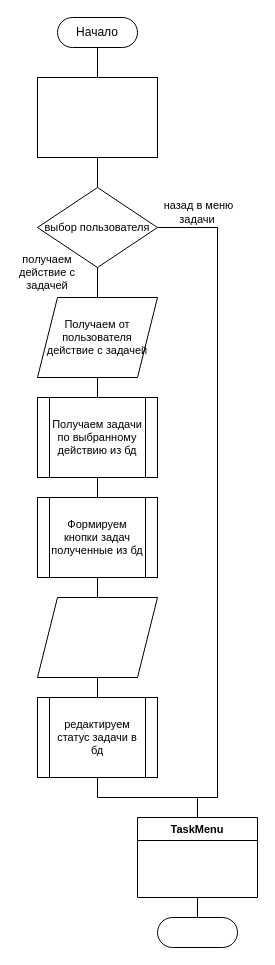
The diagram is 275 pixels wide and 965 high, and some of its shapes have lost their labels. The shapes that lost their labels are listed below. From the top down, each one's box as (x1, y1, x2, y2) in pixels, then its label:
(36, 76, 158, 158): выводим клавиатуру выбора действия остановить/возобновить
(36, 596, 158, 678): Получаем задачу от пользователя
(156, 916, 238, 948): конец
